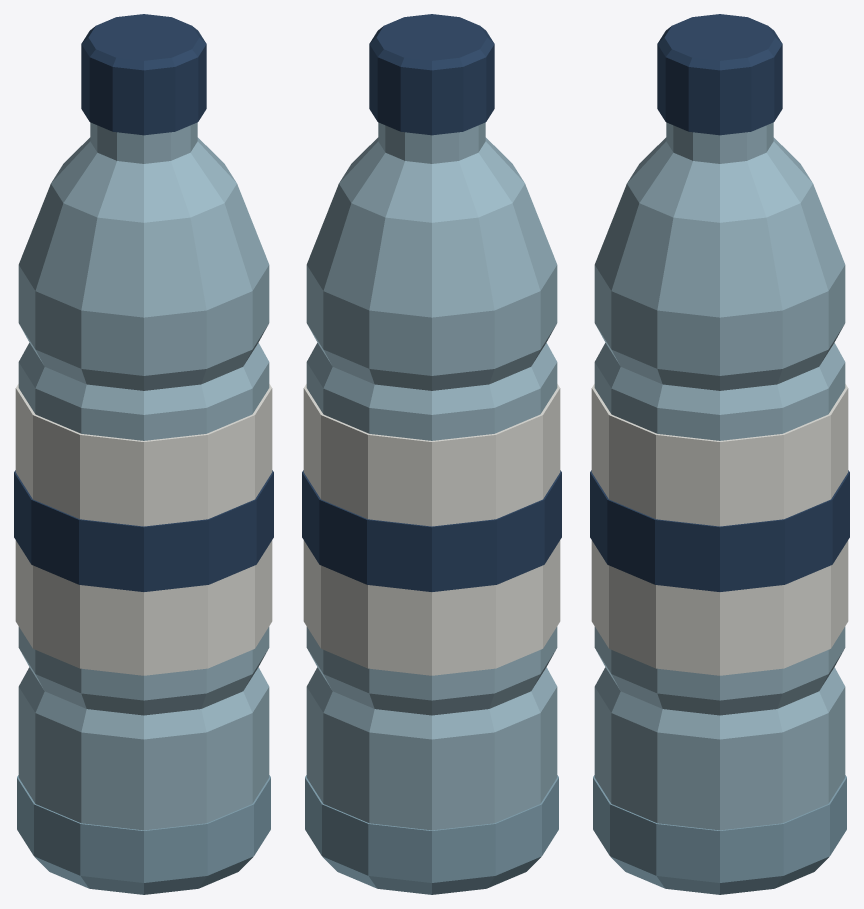
File: eau.glb
3 views of the same model, side by side, from view 1: azimuth 30°, elevation 25°; view 2: azimuth 150°, elevation 25°; view 3: azimuth 270°, elevation 25° (orthographic).
Visible parts, largest first — view 1: bottle, label, band, base, cap; view 2: bottle, label, band, base, cap; view 3: bottle, label, band, base, cap.
Boxes of the visible parts, x1,y1,x2,y2 form: bottle: [18, 122, 269, 830]; label: [15, 384, 272, 675]; band: [14, 470, 273, 591]; base: [17, 775, 270, 894]; cap: [81, 14, 206, 135]; bottle: [306, 122, 557, 830]; label: [303, 384, 560, 675]; band: [302, 470, 561, 591]; base: [305, 775, 558, 894]; cap: [369, 14, 494, 135]; bottle: [594, 122, 845, 830]; label: [591, 384, 848, 675]; band: [590, 470, 849, 591]; base: [593, 775, 846, 894]; cap: [657, 14, 782, 135].
Bounding box in the file's own units: 0.0726 × 0.25 × 0.0726.
Materials: 5 (5 with a texture image).
